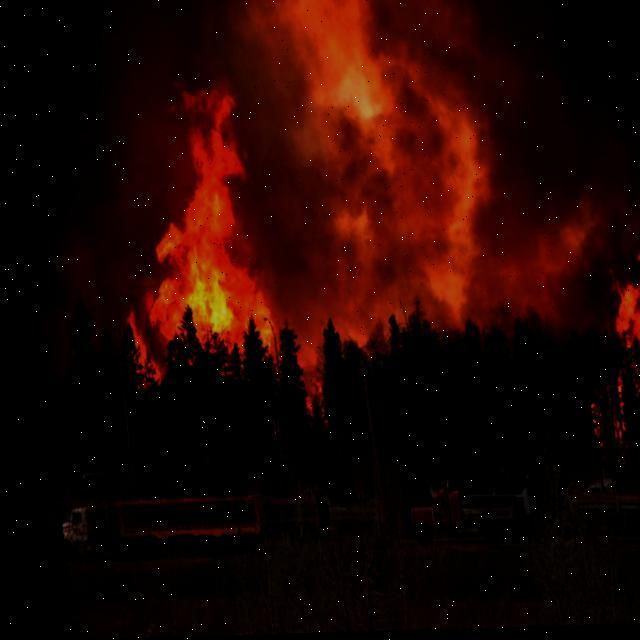Fire: (88, 80, 276, 417), (561, 244, 639, 482)
